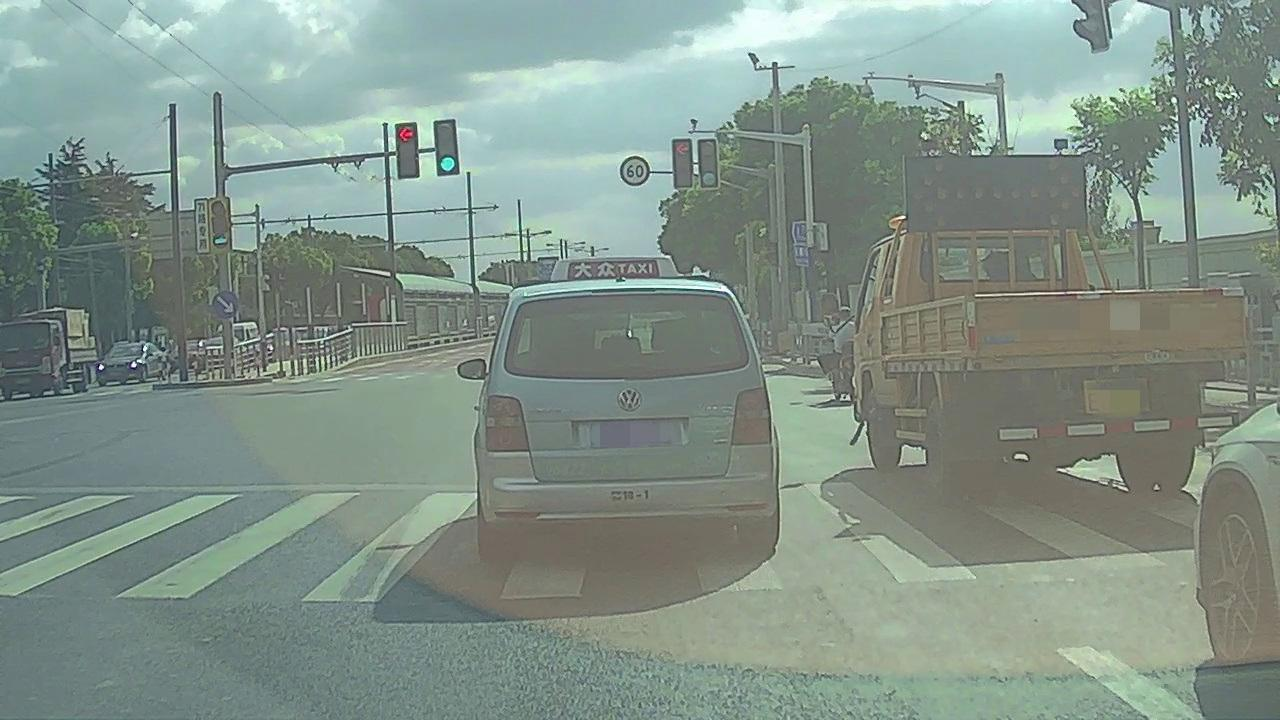traffic_light: (436, 121, 460, 175), (397, 123, 419, 178), (698, 137, 719, 189), (674, 137, 693, 187)
